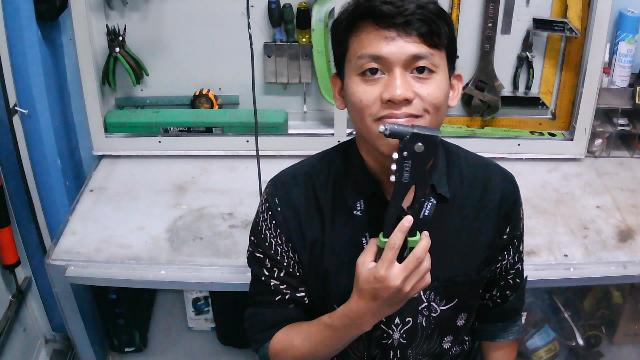tang_rivet: (374, 118, 444, 293)
